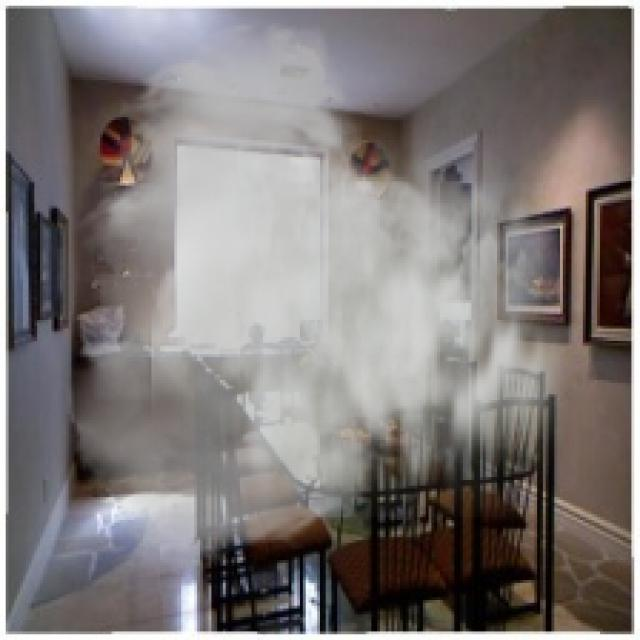smoke: (63, 17, 591, 572)
